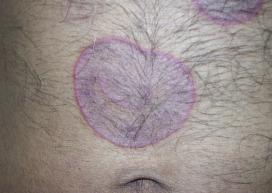annular lichen planus: (66, 26, 224, 163)
